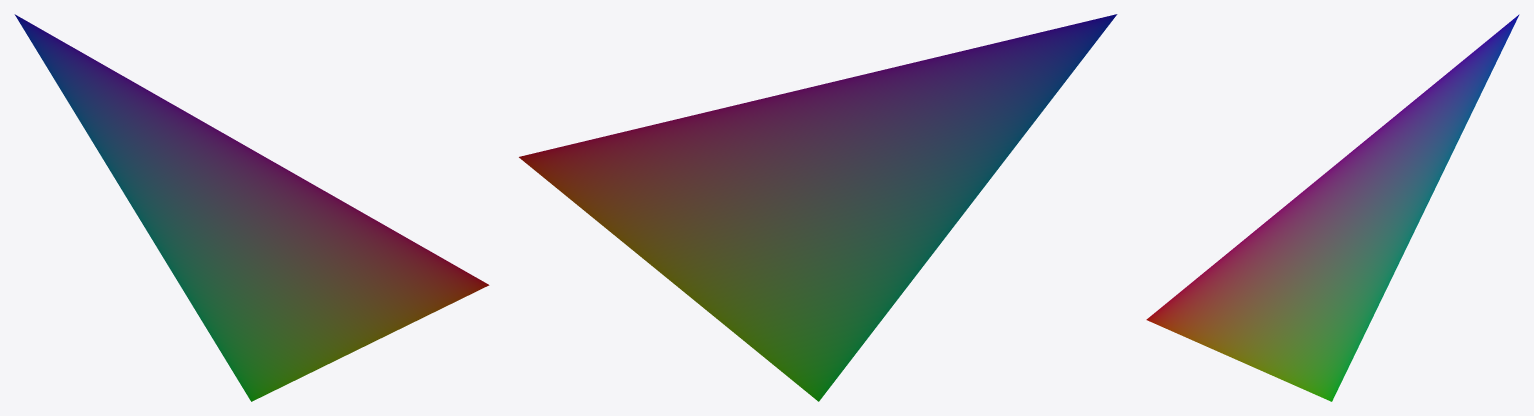
File: face_cleaning_conquest_101.obj
3 views of the same model, side by side, from view 1: azimuth 30°, elevation 25°; view 2: azimuth 210°, elevation 25°; view 3: azimuth 270°, elevation 25° (orthographic). The views are drawn at different scales.
Size of the model in its own units: 0.9272 by 1.12 by 1.16.
